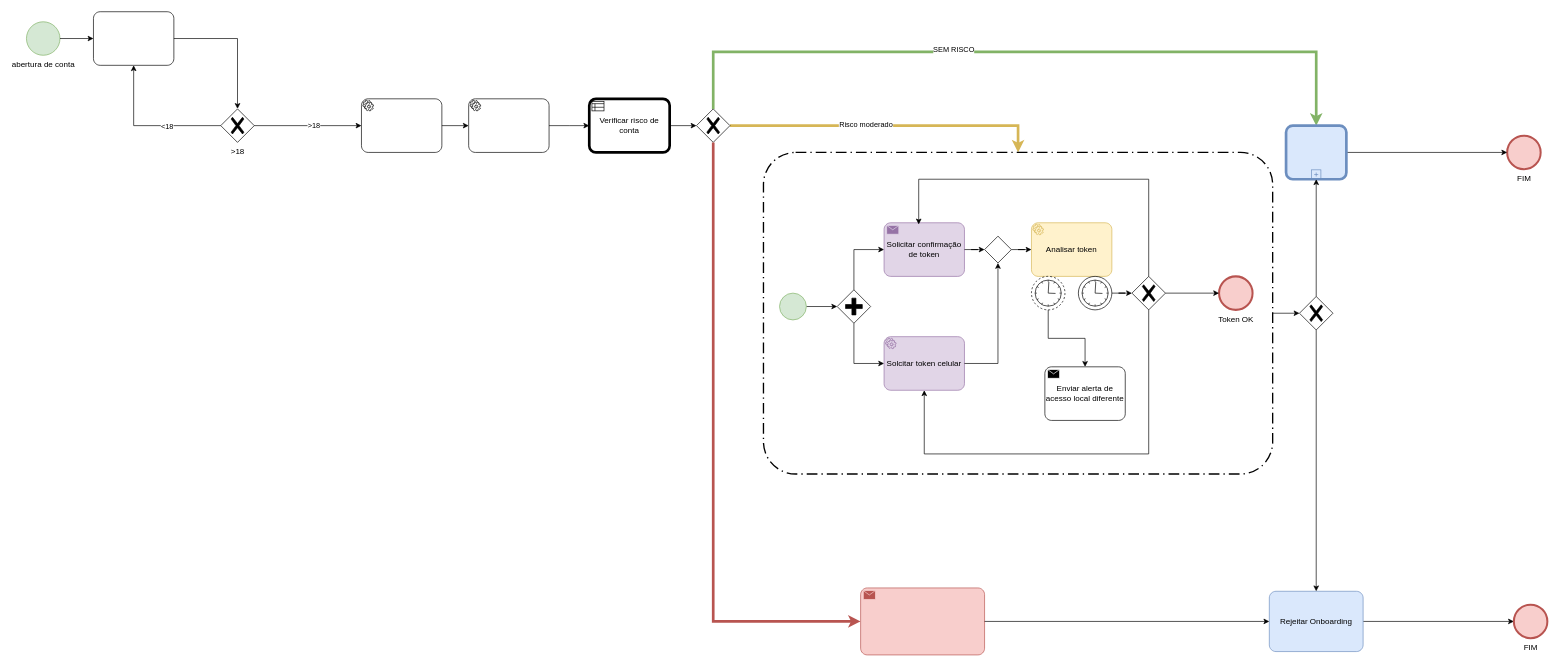
Image size: 1559x667. Some labels were removed from this diagram. Each missing label, with the box of its shape:
Confirmar onboarding cliente: (1285, 125, 1346, 179)
Dispara notificação de tentativa de acesso: (860, 587, 985, 655)
Preencher Formulario: (93, 11, 174, 65)
Verificar Email: (361, 98, 442, 152)
Verificar telefone: (468, 98, 549, 152)
